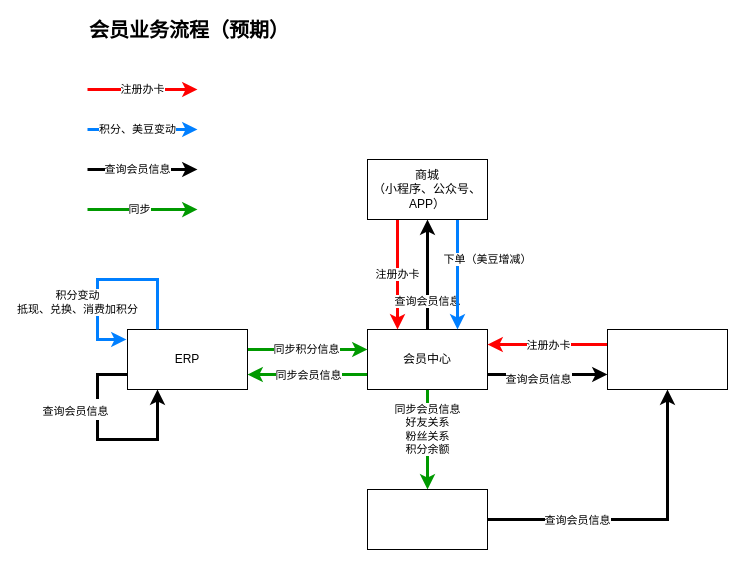
Image size: 745x567. Some labels were removed from this diagram. The shapes that lost their labels are listed below. From the top down, each one's box as (x1, y1, x2, y2) in pixels, then its label:
(606, 328, 728, 390): 店员助手
(366, 488, 488, 550): CRM
